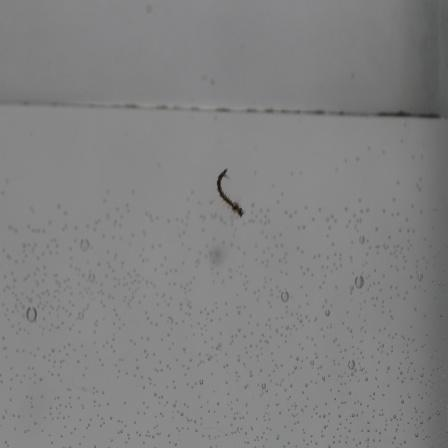Jentik-Nyamuk: (210, 164, 246, 221)
